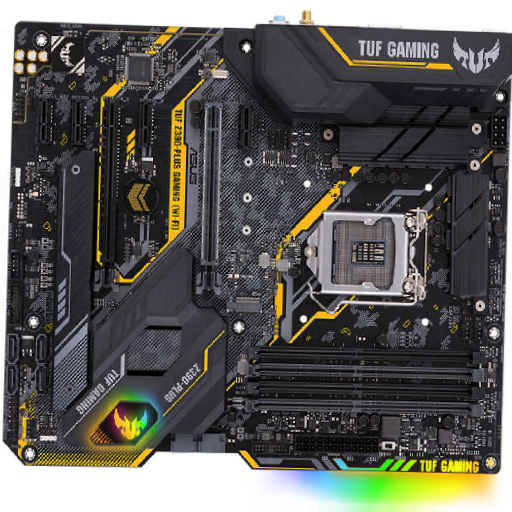CPU: (305, 212, 428, 301)
GPU: (90, 96, 123, 294), (195, 103, 225, 299)
MOTHERBOARD: (4, 21, 512, 469)
RAM: (244, 345, 489, 418)
SSD: (224, 295, 264, 314)
